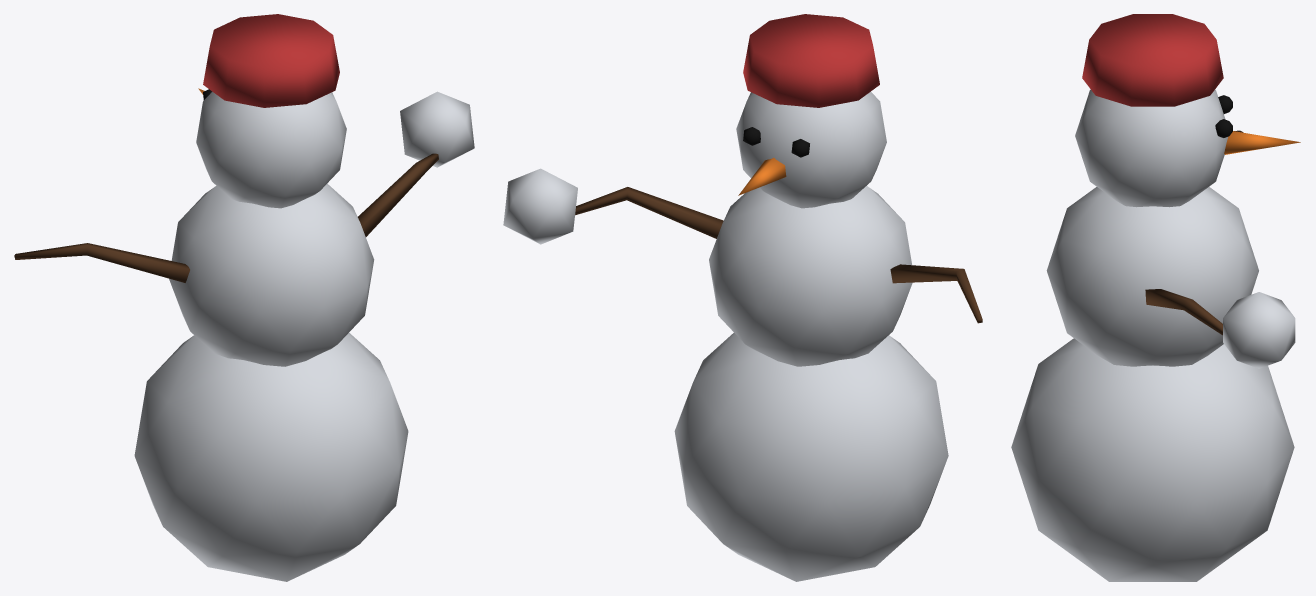
Rendered from snow_balla.glb.
The picture shows the model from 3 angles, left to right: view 1: azimuth 30°, elevation 25°; view 2: azimuth 150°, elevation 25°; view 3: azimuth 270°, elevation 25°; orthographic projection.
Parts seen in each view (by area): view 1: snow_balla; view 2: snow_balla; view 3: snow_balla.
Boxes of the visible parts, bbox=[...] form: snow_balla: bbox=[14, 14, 474, 581]; snow_balla: bbox=[503, 14, 982, 581]; snow_balla: bbox=[1011, 14, 1300, 581].
Bounding box in the file's own units: 1.53 × 1.67 × 0.82.
